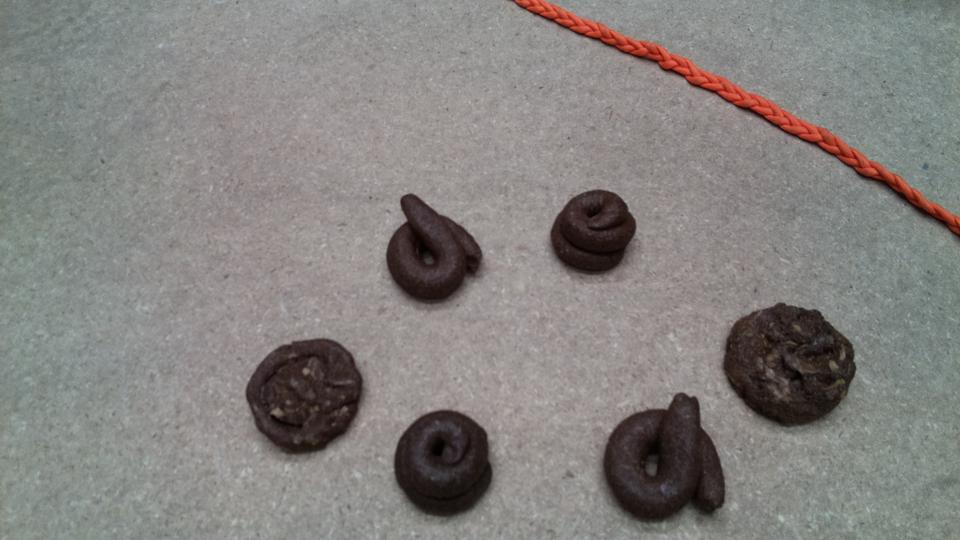poop: (723, 300, 858, 428), (600, 392, 728, 522), (243, 334, 363, 455), (383, 191, 486, 305), (391, 408, 494, 519), (548, 187, 638, 273)
rope: (536, 1, 959, 233)
